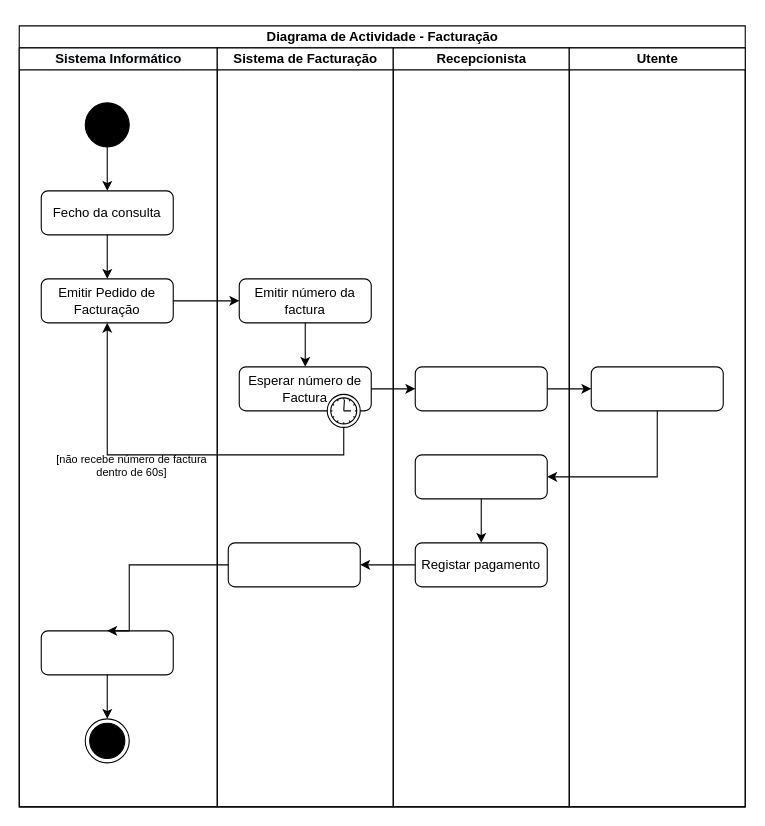
The diagram is 765 pixels wide and 826 high, and some of its shapes have lost their labels. Each missing label, with the centre of its shape:
"Actualiza estado da consulta para pago" belongs at (x=106, y=652).
"Apresentar valor a pagar" belongs at (x=480, y=388).
"Emitir factura" belongs at (x=293, y=564).
"Pagar consulta" belongs at (x=656, y=388).
"Receber pagamento" belongs at (x=480, y=476).
